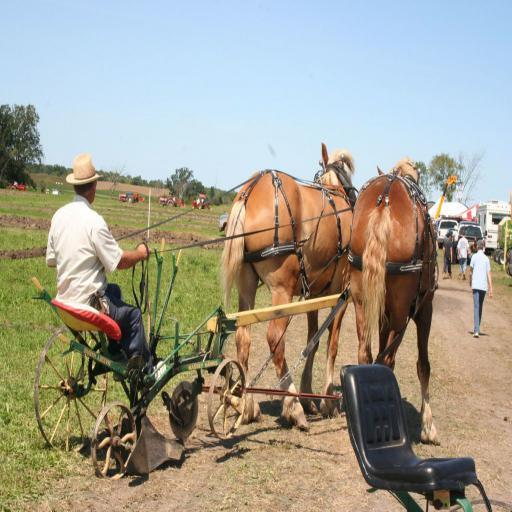horse: (220, 138, 356, 430), (351, 154, 434, 446)
